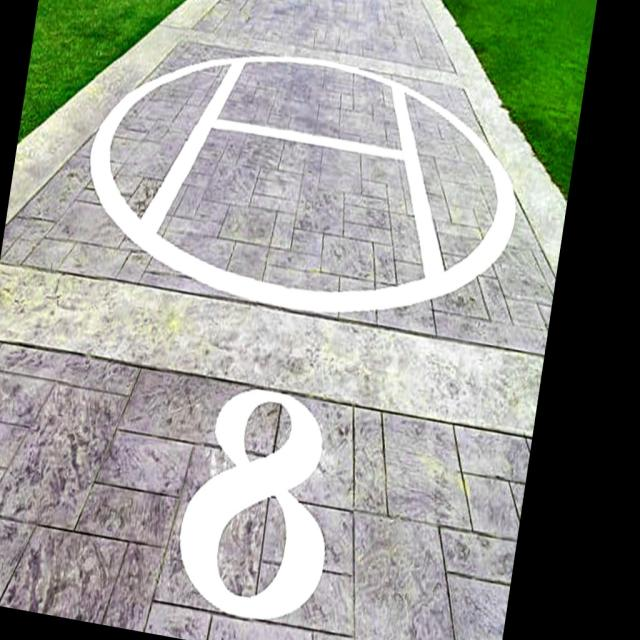helipad: (83, 46, 518, 317)
